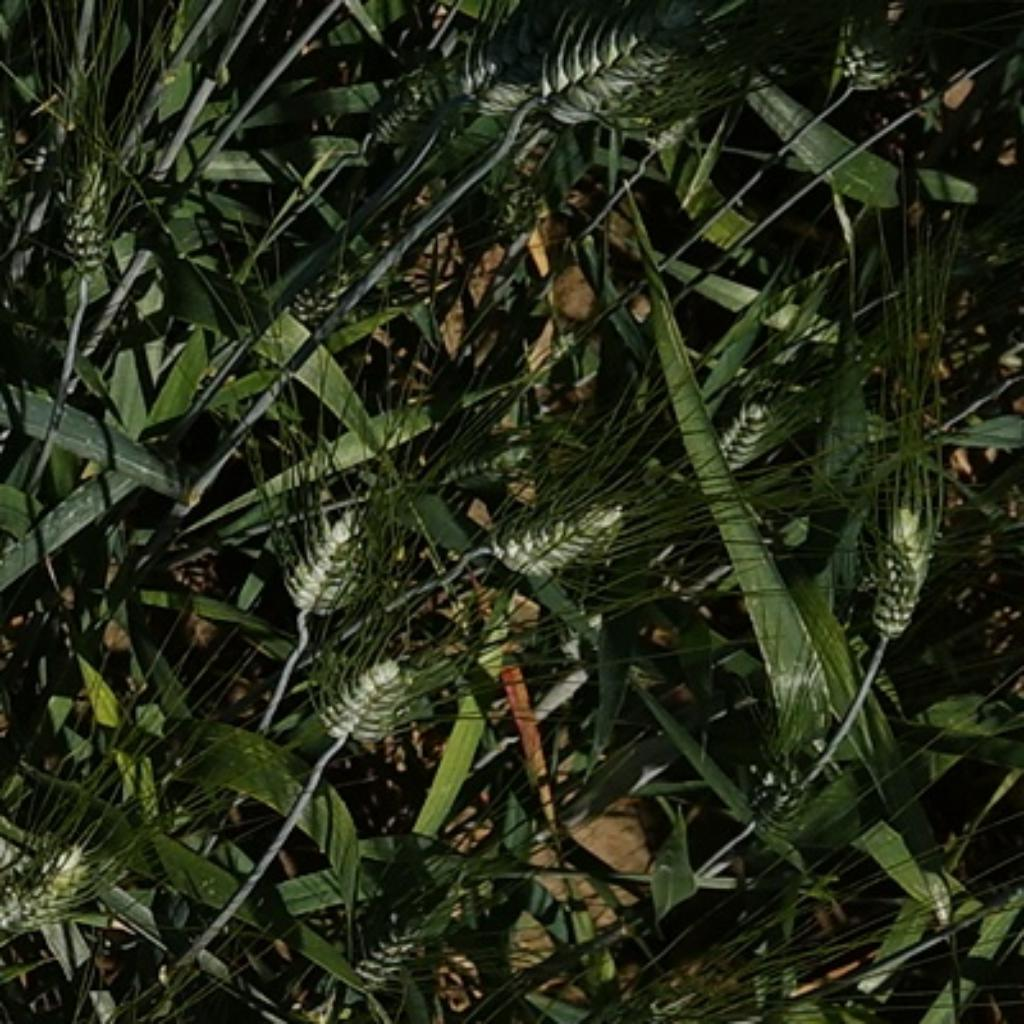0-0: (529, 8, 664, 131), (307, 632, 440, 744), (279, 483, 378, 623), (489, 496, 622, 586), (443, 26, 539, 144), (860, 498, 942, 632), (46, 159, 131, 275), (344, 897, 434, 1002), (0, 840, 90, 942), (819, 17, 925, 99), (426, 435, 543, 504), (822, 412, 905, 495), (375, 60, 440, 165), (747, 745, 820, 834), (709, 389, 779, 479), (282, 257, 358, 327)
